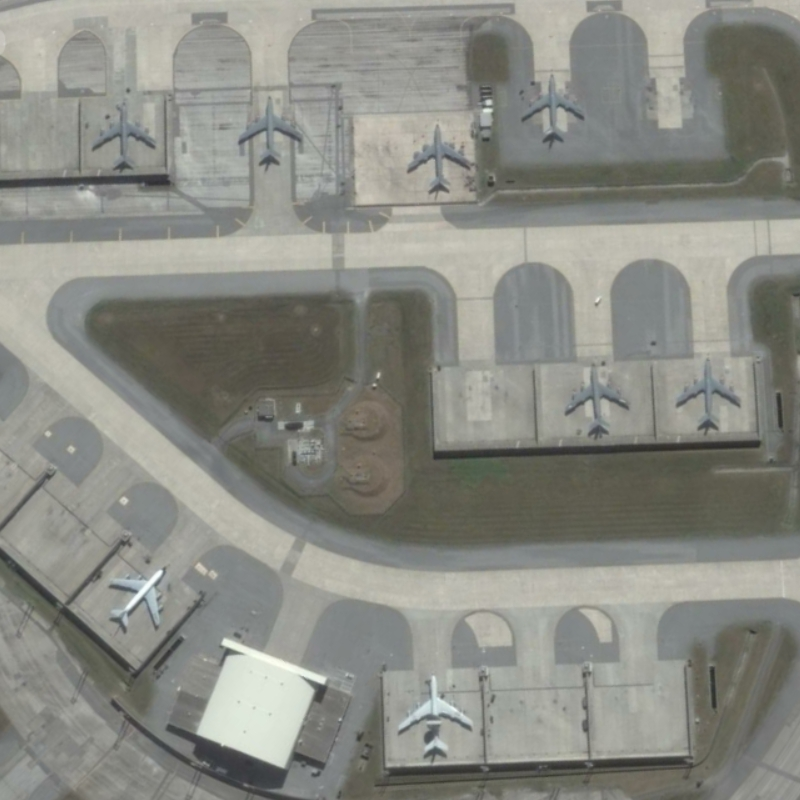A11: (99, 559, 174, 635)
A14: (402, 117, 480, 199), (561, 355, 637, 439), (87, 92, 161, 178), (513, 69, 591, 147), (669, 353, 744, 434), (232, 89, 307, 170)
A7: (390, 667, 479, 760)
